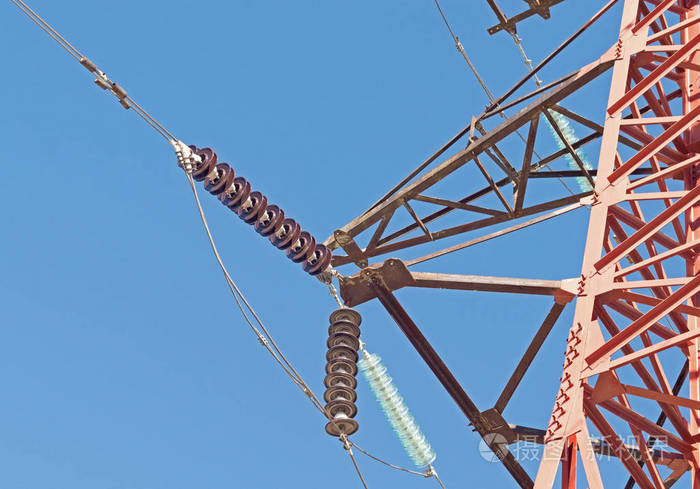insulator: (190, 147, 334, 274), (359, 354, 438, 468), (321, 308, 362, 436), (546, 110, 596, 192)
